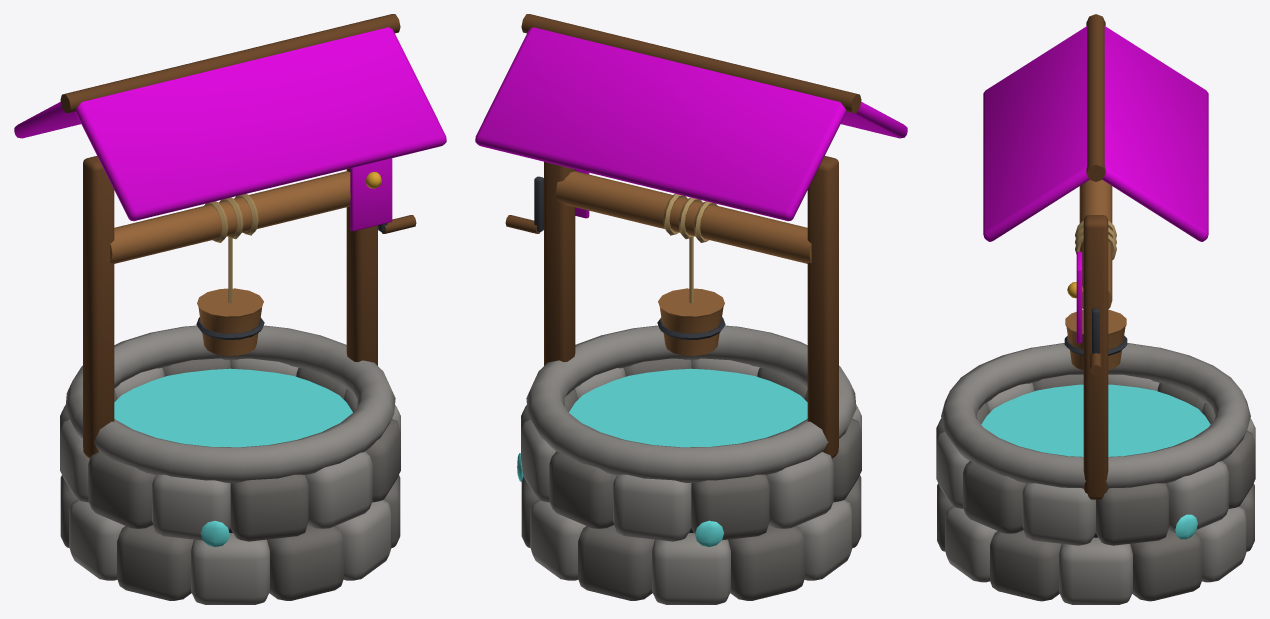
The model's file is poco.glb.
3 renders of one model, left to right at view 1: azimuth 30°, elevation 25°; view 2: azimuth 150°, elevation 25°; view 3: azimuth 270°, elevation 25°, orthographic. The views are drawn at different scales.
Parts seen in each view (by area): view 1: corpo, agua, balde; view 2: corpo, agua, balde, manivela; view 3: corpo, agua, balde, manivela.
Part boxes in pixels (<box>): corpo: <box>14,14,446,604</box>; agua: <box>114,368,352,447</box>; balde: <box>196,237,264,355</box>; corpo: <box>475,14,907,604</box>; agua: <box>569,368,807,447</box>; balde: <box>657,237,725,355</box>; manivela: <box>505,176,543,233</box>; corpo: <box>936,14,1255,604</box>; agua: <box>981,384,1210,456</box>; balde: <box>1064,309,1127,370</box>; manivela: <box>1090,308,1101,375</box>.
Size of the model in its own units: 1.37 by 1.83 by 1.16.
